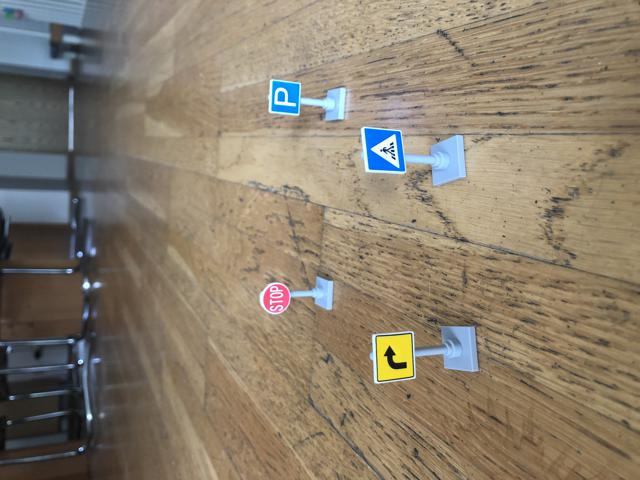fahrtrichtung rechts: (370, 326, 419, 386)
fußgängerüberweg: (361, 124, 405, 177)
parken: (266, 78, 304, 117)
stop: (258, 280, 295, 317)
